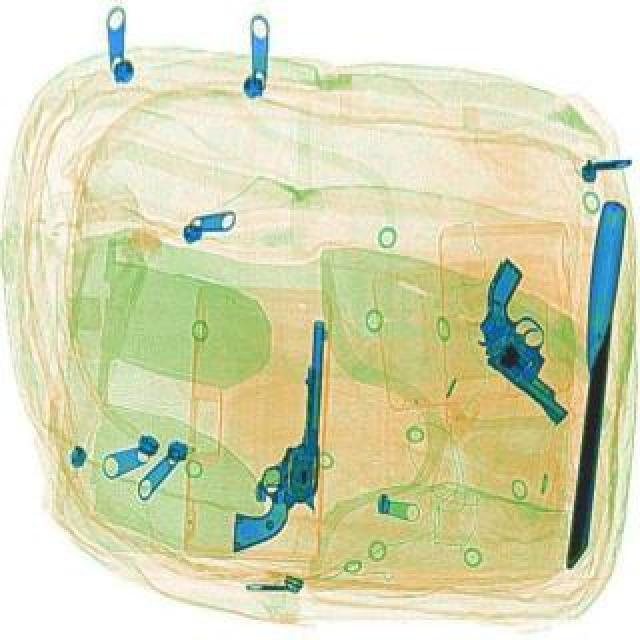gun: (436, 256, 624, 422), (230, 316, 324, 550)
knife: (560, 198, 626, 566)
